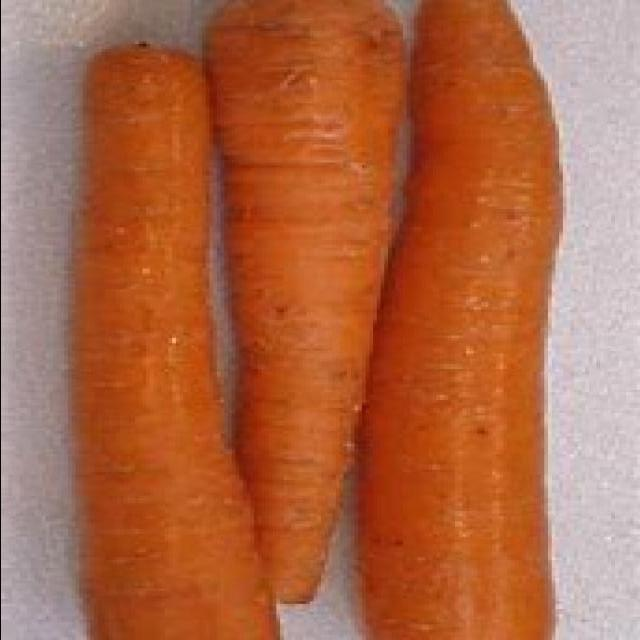carrot: (346, 0, 563, 639), (200, 0, 412, 607), (67, 43, 275, 639)
